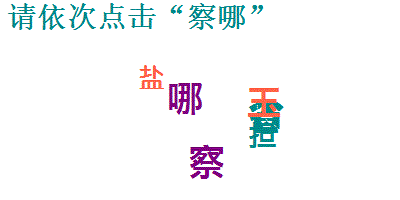result: (187, 1, 249, 31)
text: (187, 143, 225, 183), (167, 81, 204, 118), (246, 99, 283, 135), (246, 85, 282, 119), (246, 122, 280, 151), (137, 63, 165, 91)
